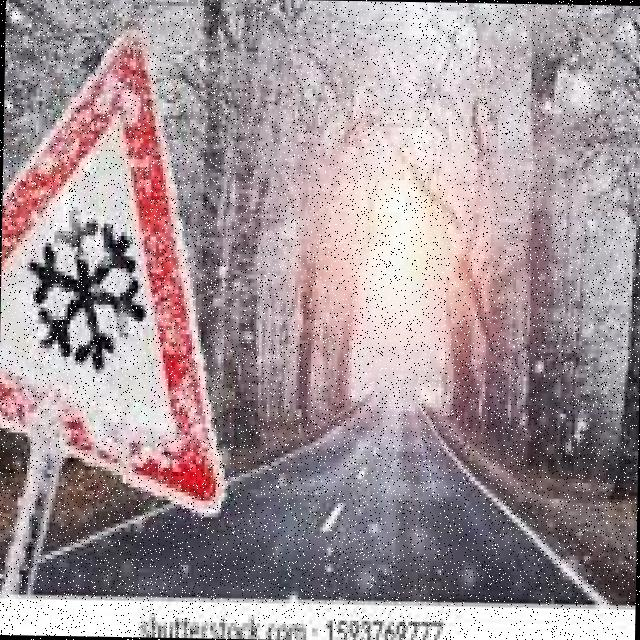snow_warning: (0, 18, 261, 525)
